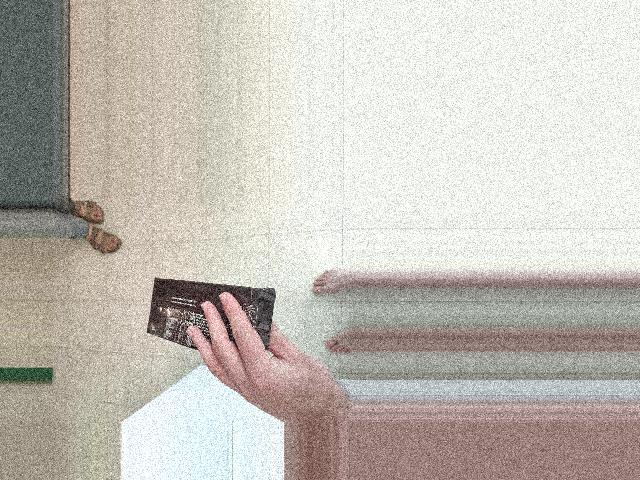chocolate: (143, 275, 292, 374)
